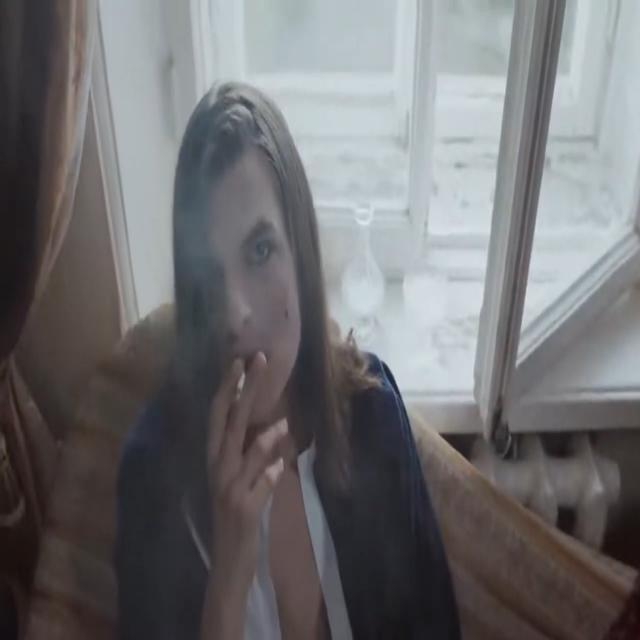Курение: (234, 364, 249, 409)
